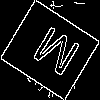M: (25, 24, 83, 86)
